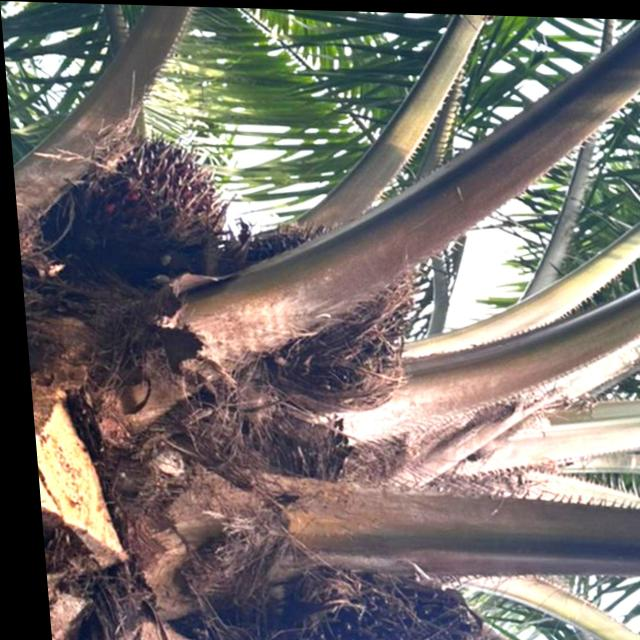unripe: (221, 209, 423, 413), (187, 541, 500, 640), (25, 125, 228, 265)
